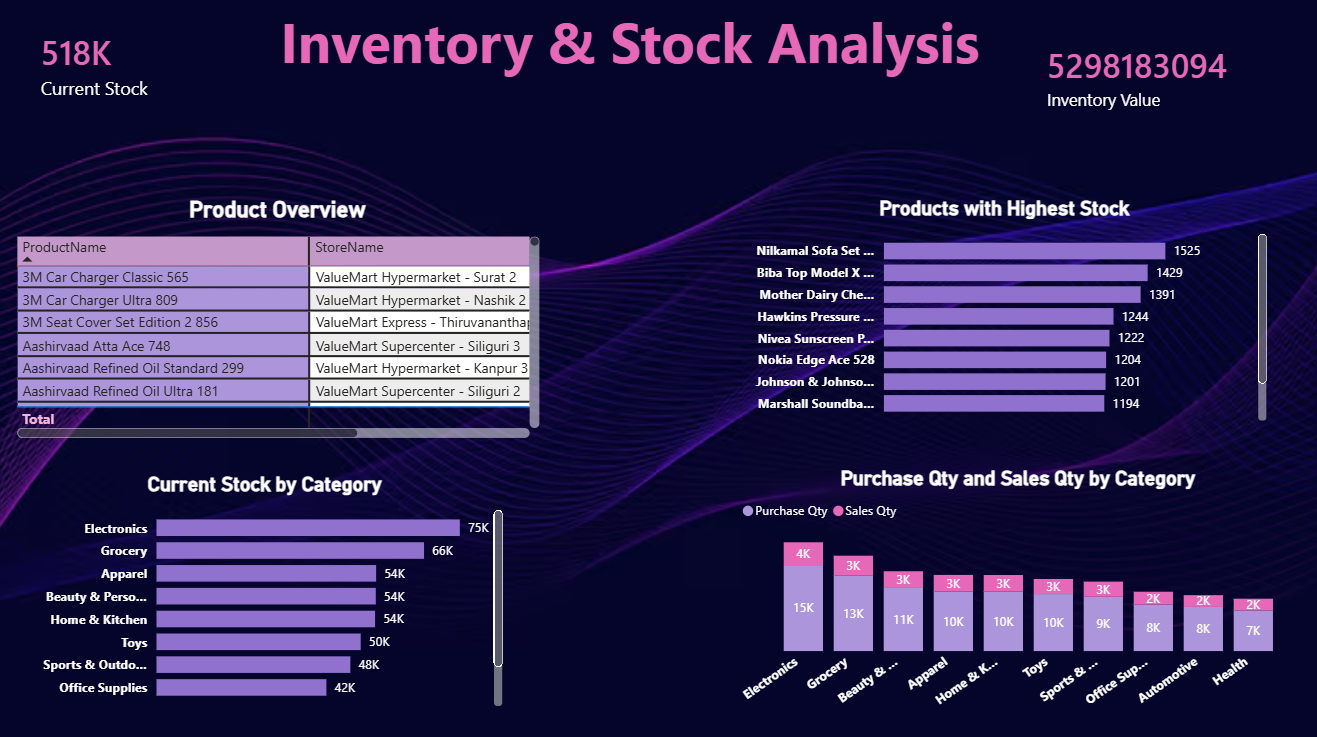

This screenshot's page, from the dashboard's own definition file:
{"tool":"powerbi","page":{"name":"Inventory & Stock","canvas":[1280,720],"ordinal":4},"visuals":[{"type":"cardVisual","fields":{"Data":["Measure Table.Current Stock"]},"box":[103.8,285,167.5,95],"z":0},{"type":"tableEx","title":"Product Overview","fields":{"Values":["Dim_Product.ProductName","Dim_Store.StoreName","Measure Table.Current Stock","Measure Table.Low Stock"]},"box":[13.8,191.2,515,237.5],"z":1000},{"type":"barChart","title":"Products with Highest Stock","fields":{"Category":["Dim_Product.ProductName"],"Y":["Measure Table.Current Stock"]},"box":[713.8,191.2,516.2,221.2],"z":2000},{"type":"barChart","fields":{"Category":["Dim_Product.Category"],"Y":["Measure Table.Current Stock"]},"box":[23.8,458.8,468.8,230],"z":3000},{"type":"columnChart","fields":{"Category":["Dim_Product.Category"],"Y":["Measure Table.Purchase Qty","Measure Table.Sales Qty"]},"box":[713.8,452.5,542.5,242.5],"z":4000},{"type":"textbox","box":[236.2,0,748.8,93.8],"z":5000},{"type":"cardVisual","fields":{"Data":["Measure Table.Current Stock"]},"box":[13.8,16.2,222.5,96.2],"z":6000},{"type":"cardVisual","fields":{"Data":["Measure Table.Inventory Value"]},"box":[985,0,245,150],"z":7000}]}

Visuals, with their boxes in screenshot pixels (x1, y1, x2, y2), scaled from the page's 1280x720 canvas onto the 1317x737 screenshot:
cardVisual - Measure Table.Current Stock: <box>107,292,279,389</box>
"Product Overview" tableEx: <box>14,196,544,439</box>
"Products with Highest Stock" barChart: <box>734,196,1266,422</box>
barChart - Dim_Product.Category x Measure Table.Current Stock: <box>24,470,507,705</box>
columnChart - Dim_Product.Category x Measure Table.Purchase Qty: <box>734,463,1293,711</box>
textbox: <box>243,0,1013,96</box>
cardVisual - Measure Table.Current Stock: <box>14,17,243,115</box>
cardVisual - Measure Table.Inventory Value: <box>1013,0,1266,154</box>
